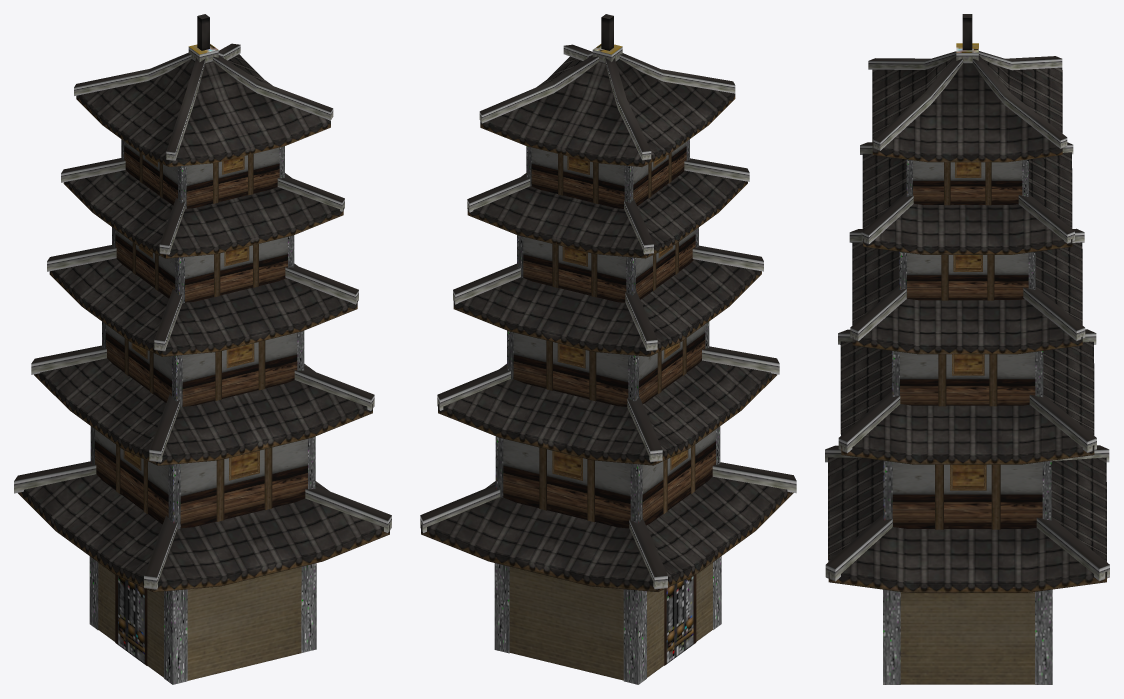
The model's file is han_pagoda.glb.
3 views of the same model, side by side, from view 1: azimuth 30°, elevation 25°; view 2: azimuth 150°, elevation 25°; view 3: azimuth 270°, elevation 25° (orthographic). The views are drawn at different scales.
Visible parts, largest first — view 1: han_pagoda_part0; view 2: han_pagoda_part0; view 3: han_pagoda_part0.
Boxes of the visible parts, box(x1,y1,x2,y2) form: han_pagoda_part0: box(14, 14, 391, 684); han_pagoda_part0: box(420, 14, 796, 684); han_pagoda_part0: box(825, 14, 1109, 684).
Bounding box in the file's own units: 5.5 × 13.13 × 5.35.
1 material, 1 textured.
